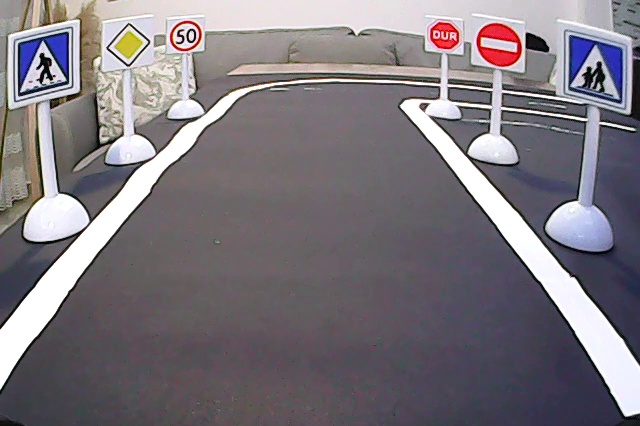do not enter: (472, 14, 526, 73)
pedestrian crossing: (10, 33, 81, 98)
school crossing: (561, 25, 627, 105)
speed limit 50: (170, 18, 205, 52)
stop sign: (427, 18, 463, 54)
